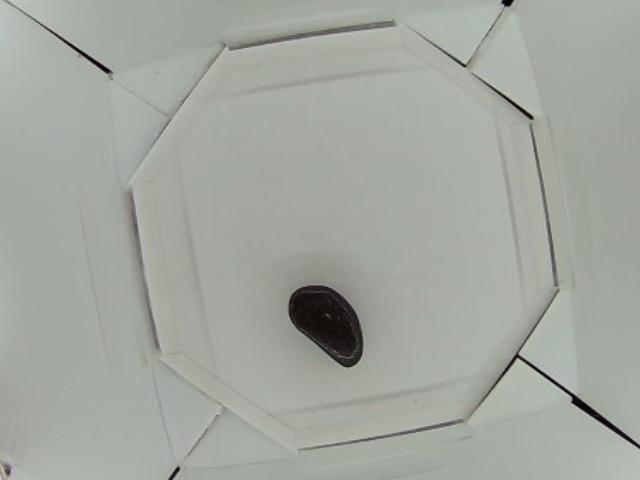Pebble: (286, 284, 364, 368)
